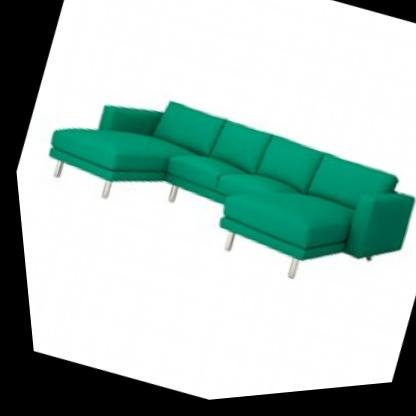Sofa: (6, 31, 416, 349)
